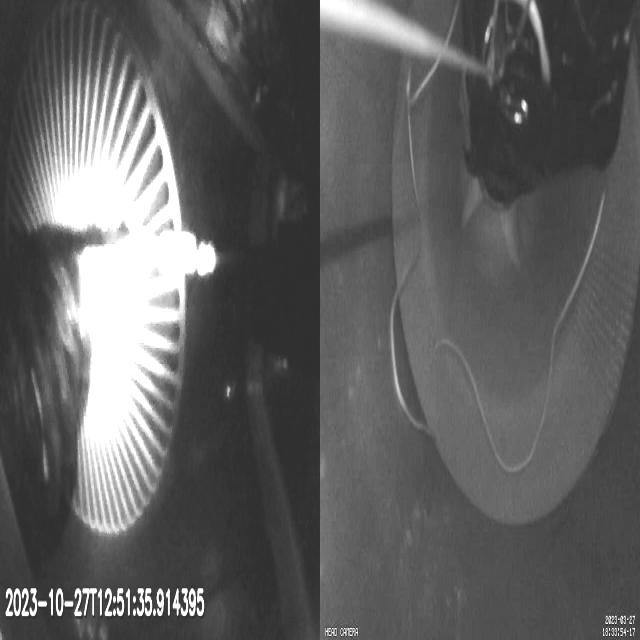white-dots: (159, 228, 216, 277)
